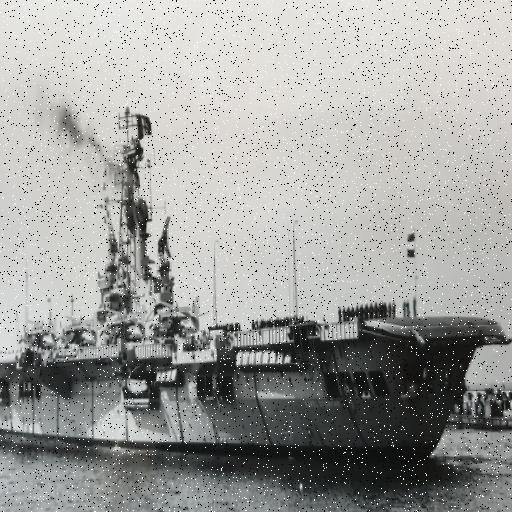Portanaves: (1, 99, 511, 471)
